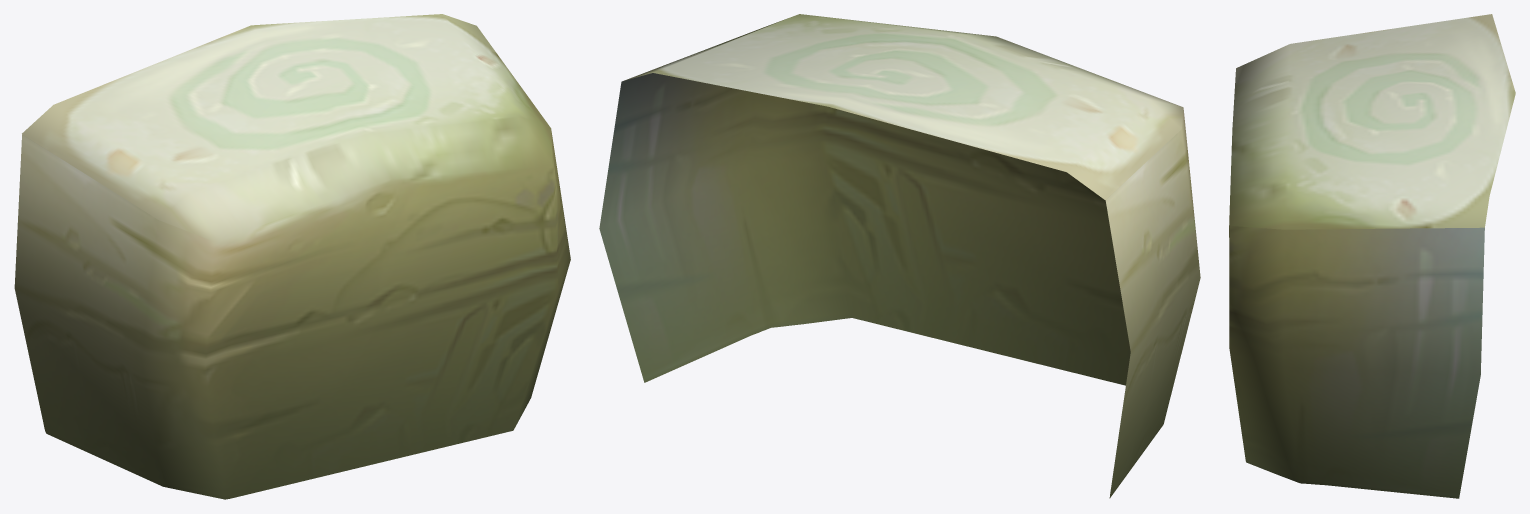
File: Chapter4Scene1Model3.FBX
3 views of the same model, side by side, from view 1: azimuth 30°, elevation 25°; view 2: azimuth 150°, elevation 25°; view 3: azimuth 270°, elevation 25° (orthographic). The views are drawn at different scales.
Parts seen in each view (by area): view 1: Chapter4Scene1Model3; view 2: Chapter4Scene1Model3; view 3: Chapter4Scene1Model3.
Part boxes in pixels (x1=…): Chapter4Scene1Model3: x1=14, y1=14, x2=570, y2=499; Chapter4Scene1Model3: x1=599, y1=14, x2=1200, y2=498; Chapter4Scene1Model3: x1=1229, y1=14, x2=1515, y2=498.
Size of the model in its own units: 63.23 by 33.65 by 40.62.
